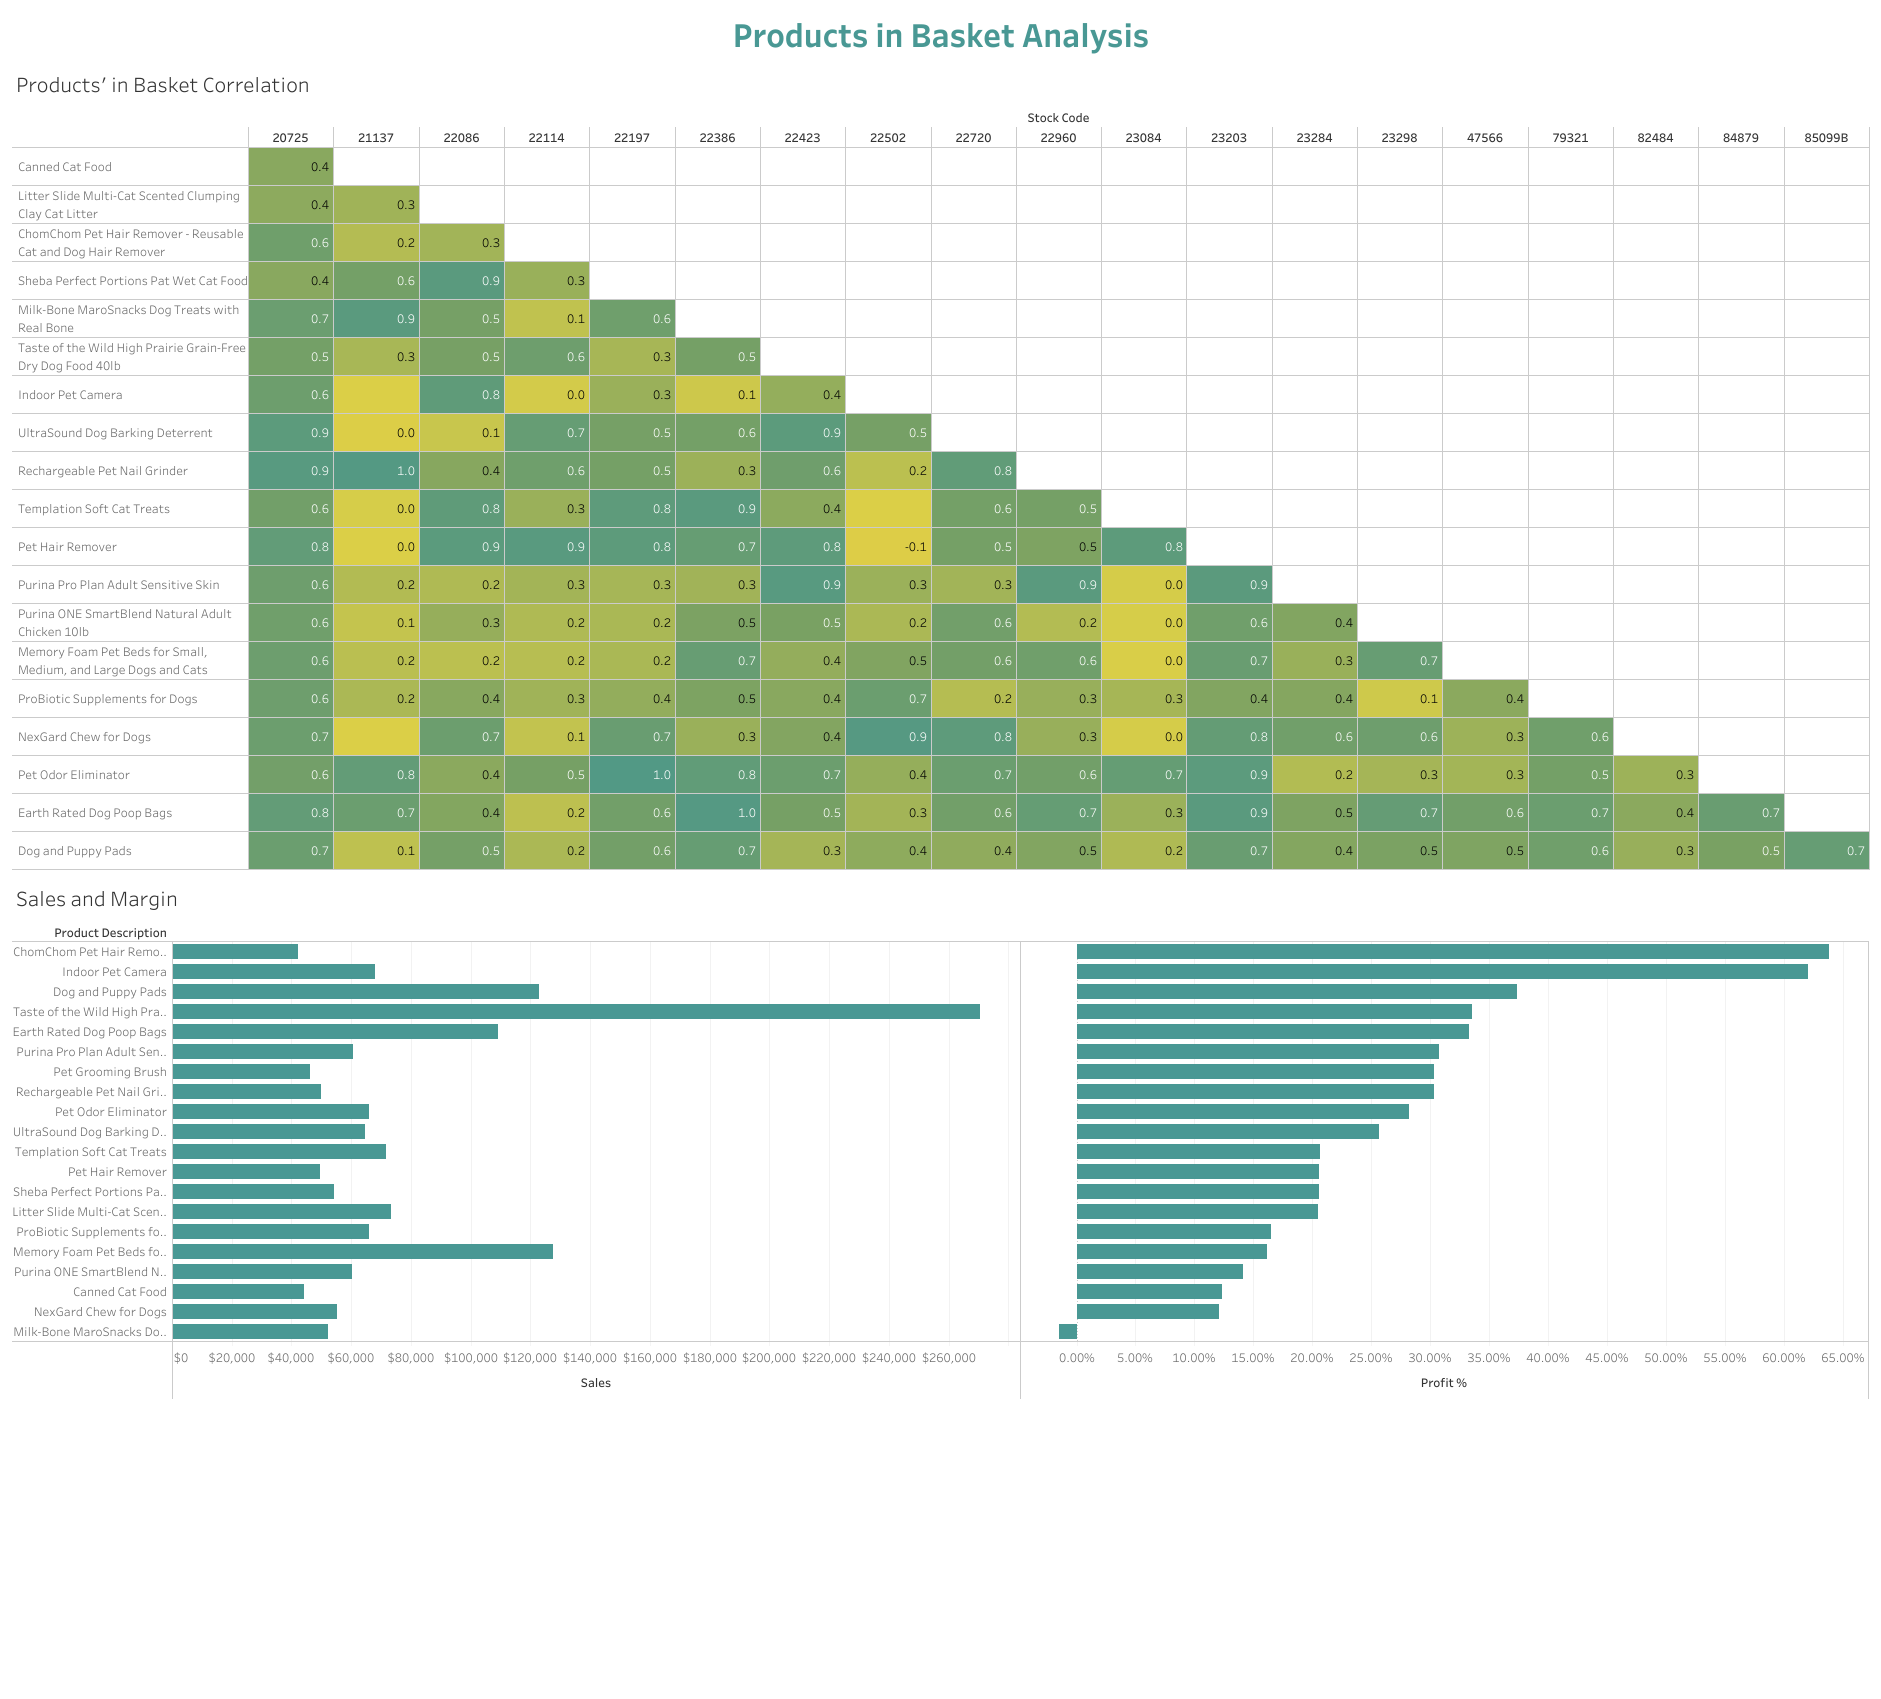

Layout of this report page (visuals, bound fields, positions):
{"tool":"tableau","page":{"name":"Growth Opportunities","canvas":[1000,1000],"units":"permille","ordinal":1},"visuals":[{"type":"title","box":[5,9.7,989.9,62.7]},{"type":"worksheet","title":"Market Basket Visualization","mark":"Square","rows":["Stock Code (fact_sales.csv1)","Calculation_701294953815851055"],"cols":["Stock Code","Calculation_701294953816137776"],"box":[5,72.4,989.9,457.9]},{"type":"worksheet","title":"Sales and Margin","mark":"Automatic","rows":["Description (dim_products.csv)"],"cols":["Sales","Calculation_1160169534943768637"],"box":[5,530.3,989.9,460]}]}

Visuals, with their boxes on the dashboard's canvas, which has no fixed pixel size, in thousandths of its width and height (x1, y1, x2, y2). These are canvas units, not pixel positions in the 1881x1699 screenshot, which may show the page scaled, cropped or inside an application window:
title: bbox=[5, 10, 995, 72]
"Market Basket Visualization" worksheet (Square marks): bbox=[5, 72, 995, 530]
"Sales and Margin" worksheet: bbox=[5, 530, 995, 990]
